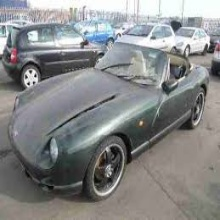no damage: (7, 41, 209, 201), (1, 23, 109, 87), (113, 22, 177, 58), (74, 21, 122, 47), (175, 26, 213, 56)
